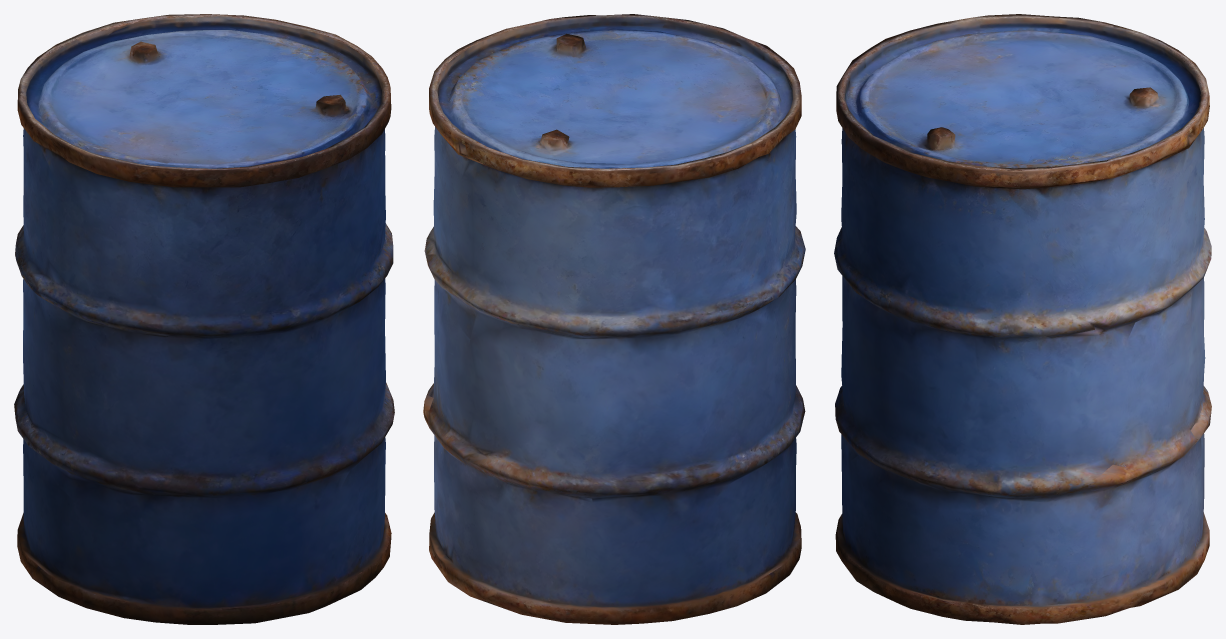
The model's file is oil_drum.fbx.
3 renders of one model, left to right at view 1: azimuth 30°, elevation 25°; view 2: azimuth 150°, elevation 25°; view 3: azimuth 270°, elevation 25°, orthographic.
Visible parts, largest first — view 1: oil_drum; view 2: oil_drum; view 3: oil_drum.
Part boxes in pixels (x1=…): oil_drum: x1=14, y1=14, x2=394, y2=624; oil_drum: x1=423, y1=14, x2=805, y2=624; oil_drum: x1=834, y1=14, x2=1211, y2=624.
Size of the model in its own units: 0.6694 by 0.8801 by 0.6612.
Materials: 1 (1 with a texture image).
